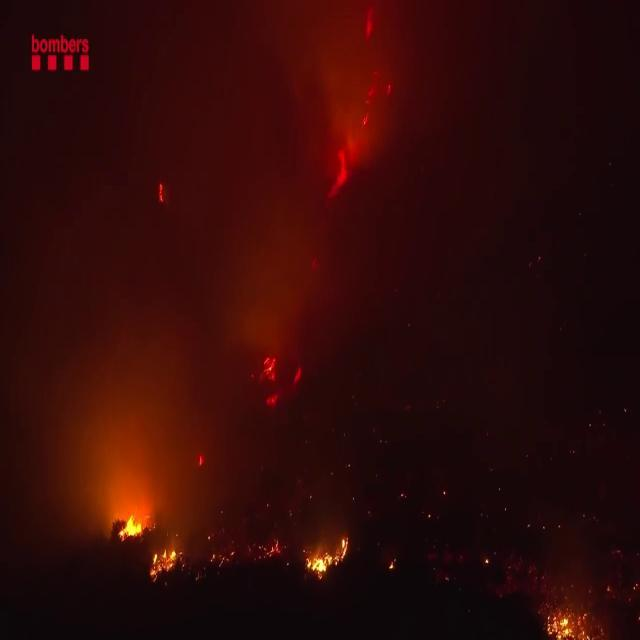Fire: (304, 531, 351, 583), (545, 602, 596, 640), (114, 496, 150, 546), (150, 538, 180, 582)
Smoke: (3, 2, 403, 502)
